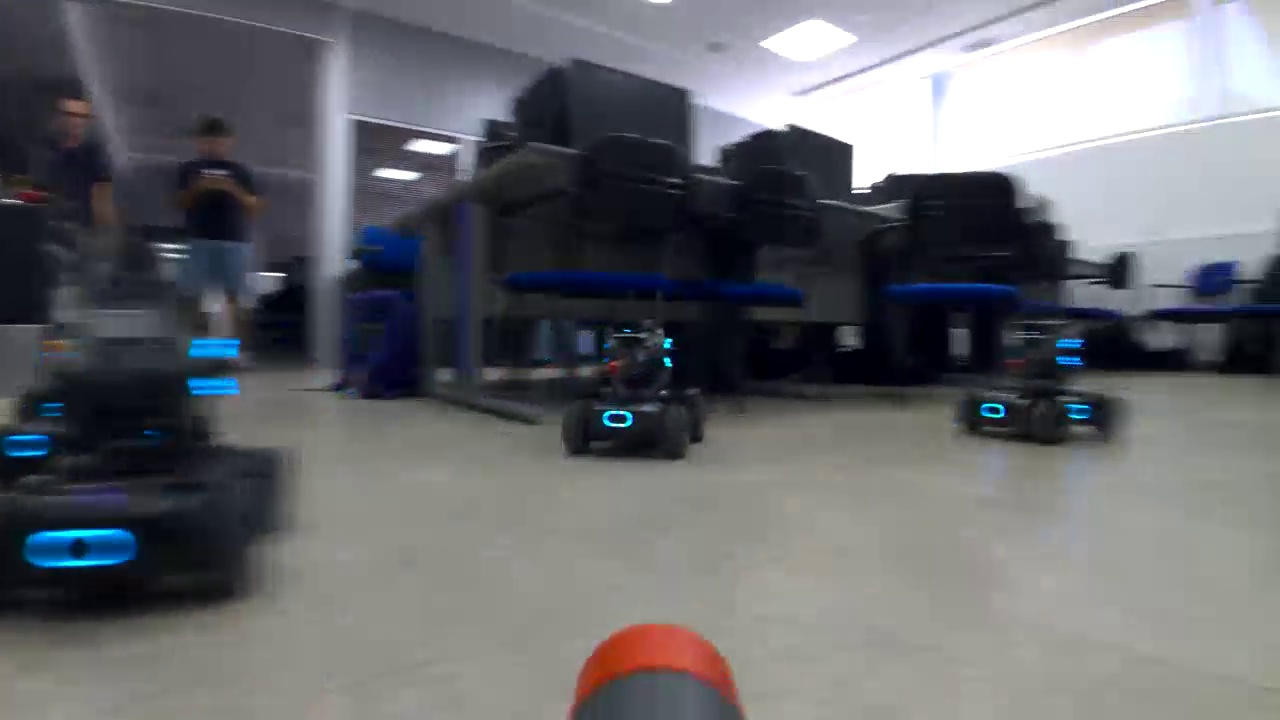robot: (1, 336, 306, 594), (554, 313, 717, 471), (1, 313, 153, 482), (952, 309, 1133, 450)
